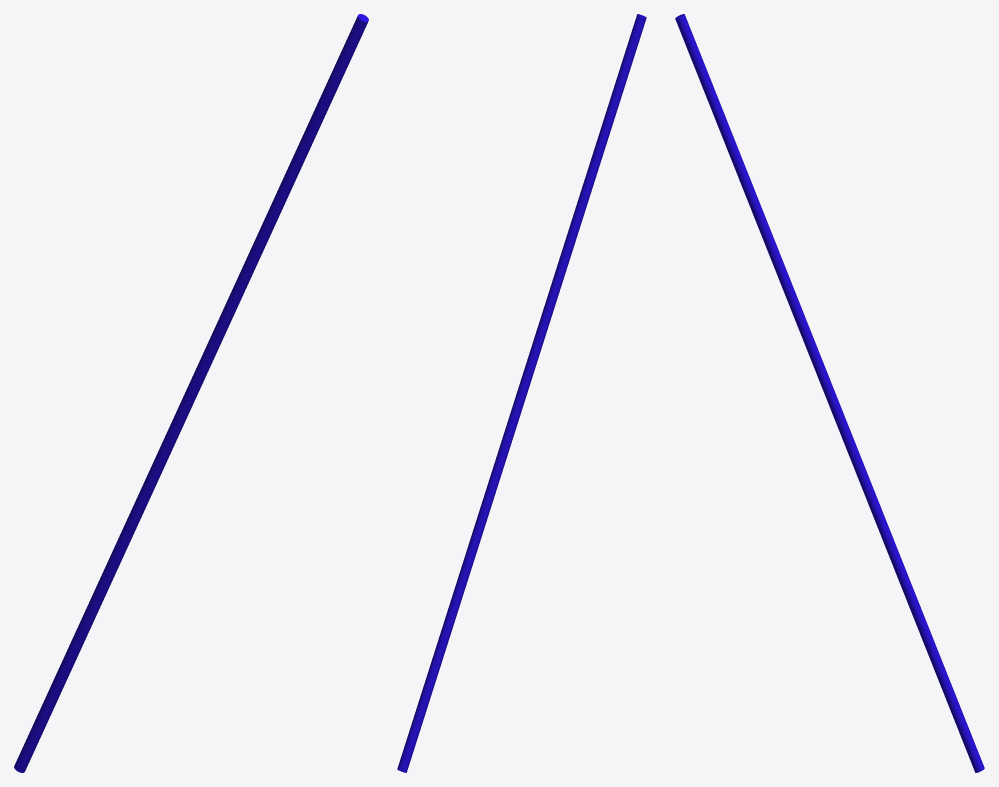
3 renders of one model, left to right at view 1: azimuth 90°, elevation 25°; view 2: azimuth 150°, elevation 25°; view 3: azimuth 270°, elevation 25°, orthographic. The views are drawn at different scales.
Parts seen in each view (by area): view 1: Циліндр.002; view 2: Циліндр.002; view 3: Циліндр.002.
Part boxes in pixels (bbox=[...]): Циліндр.002: bbox=[14, 14, 368, 772]; Циліндр.002: bbox=[397, 14, 646, 772]; Циліндр.002: bbox=[675, 14, 984, 772].
Bounding box in the file's own units: 1.16 × 7.12 × 2.82.
